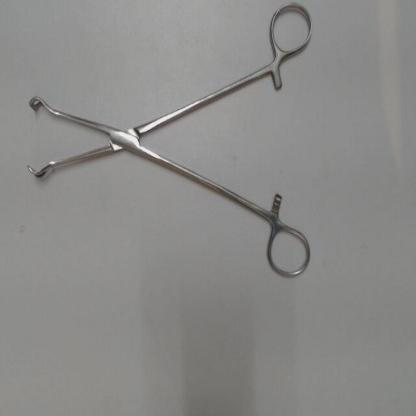8 Babcock Tissue Forceps: (24, 2, 317, 291)
